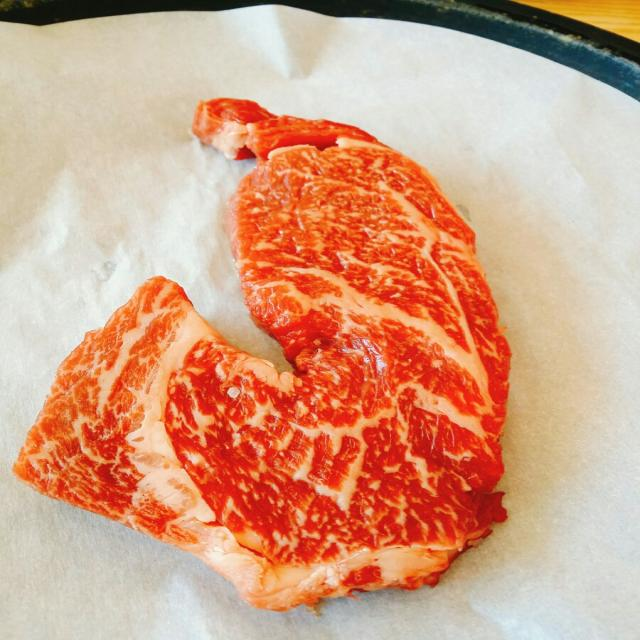beef: (60, 124, 538, 590)
